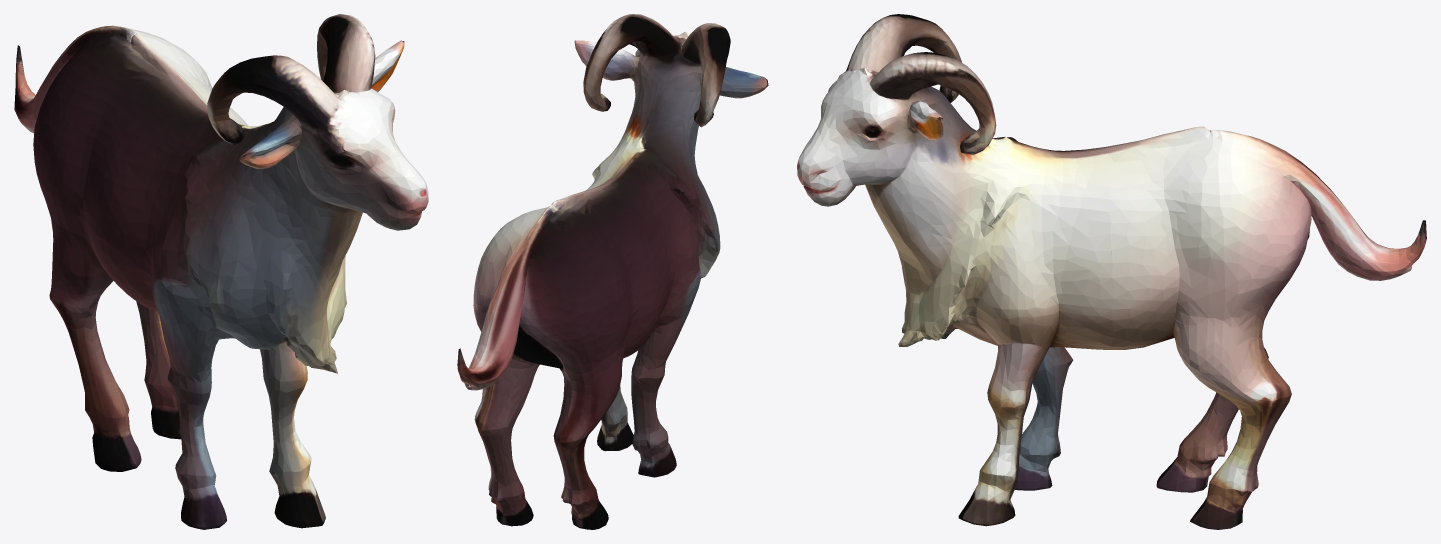
Rendered from farm_goat.glb.
3 renders of one model, left to right at view 1: azimuth 30°, elevation 25°; view 2: azimuth 150°, elevation 25°; view 3: azimuth 270°, elevation 25°, orthographic. The views are drawn at different scales.
Parts seen in each view (by area): view 1: geometry_0; view 2: geometry_0; view 3: geometry_0.
Part boxes in pixels (bbox=[...]): geometry_0: bbox=[14, 14, 428, 529]; geometry_0: bbox=[457, 14, 768, 529]; geometry_0: bbox=[797, 14, 1426, 529].
Size of the model in its own units: 0.3322 by 0.8 by 0.9611.
1 material, 1 textured.
